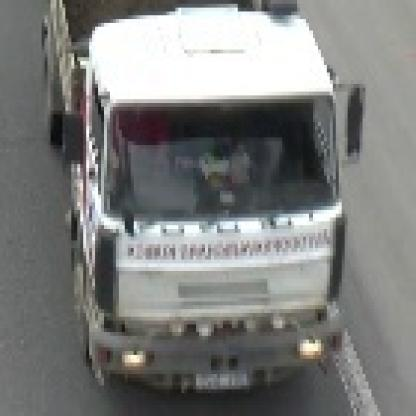truck: (37, 1, 361, 394)
